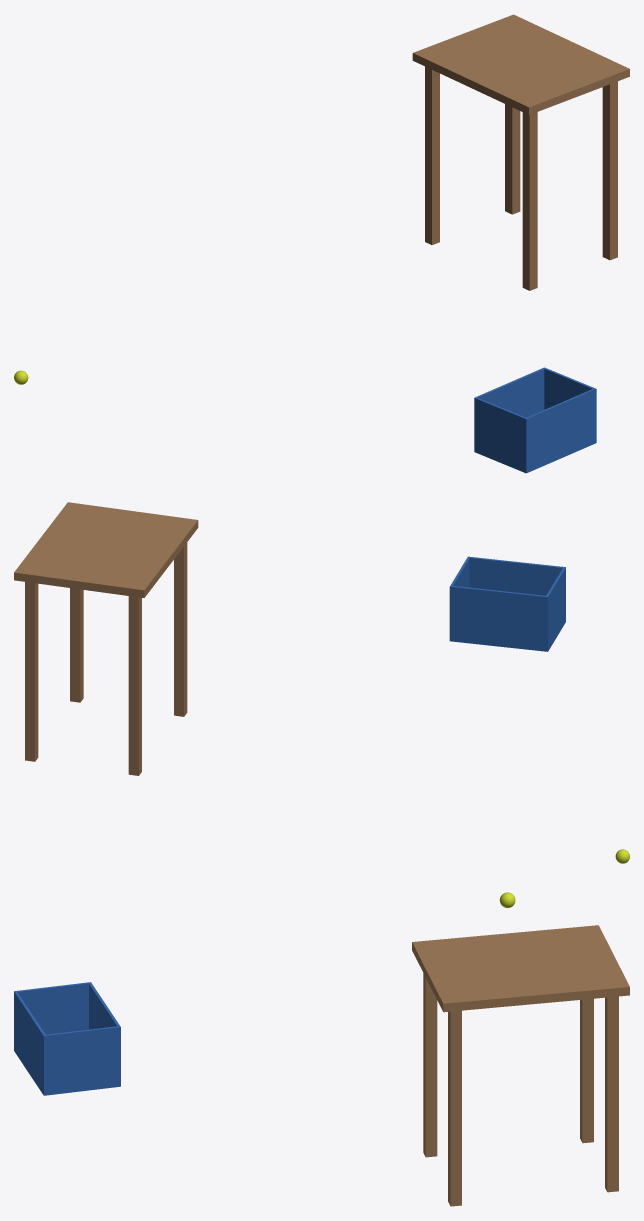
The model's file is h2_15_throw_props.glb.
3 renders of one model, top to bottom at view 1: azimuth 30°, elevation 25°; view 2: azimuth 150°, elevation 25°; view 3: azimuth 270°, elevation 25°, orthographic. The views are drawn at different scales.
Parts seen in each view (by area): view 1: s000, s006, s001, s003, s009, s002, s007, s004, s008; view 2: s000, s007, s006, s002, s004, s001, s003, s009; view 3: s000, s008, s009, s004, s003, s001, s002, s006, s007.
Boxes of the visible parts, box(x1,y1,x2,y2) form: s000: box(412, 14, 629, 114); s006: box(524, 388, 595, 473); s001: box(522, 112, 537, 290); s003: box(602, 81, 617, 260); s009: box(476, 398, 527, 470); s002: box(425, 66, 439, 244); s007: box(474, 367, 545, 452); s004: box(505, 104, 520, 214); s008: box(544, 368, 596, 443); s000: box(14, 502, 198, 597); s007: box(449, 585, 548, 651); s006: box(467, 556, 565, 622); s002: box(128, 596, 141, 775); s004: box(25, 582, 38, 761); s001: box(174, 542, 187, 716); s003: box(70, 588, 83, 702); s009: box(545, 567, 565, 651); s000: box(412, 925, 629, 1012); s008: box(43, 1026, 120, 1095); s009: box(14, 982, 90, 1048); s004: box(605, 996, 618, 1192); s003: box(448, 1010, 461, 1206); s001: box(423, 973, 437, 1157); s002: box(580, 998, 593, 1143); s006: box(14, 992, 45, 1091); s007: box(89, 982, 120, 1029).
Bounding box in the file's own units: 3.16 × 1.01 × 2.62.
